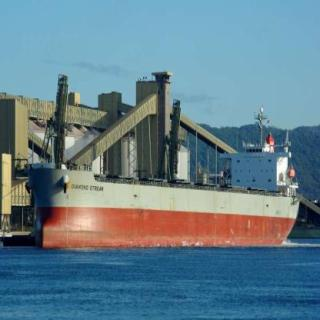Bulk Carrier: (10, 70, 309, 246)
